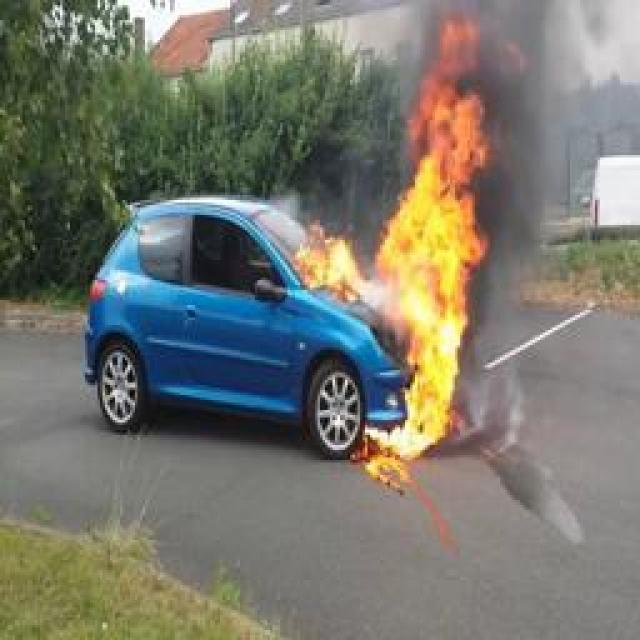Fire: (297, 14, 495, 458)
